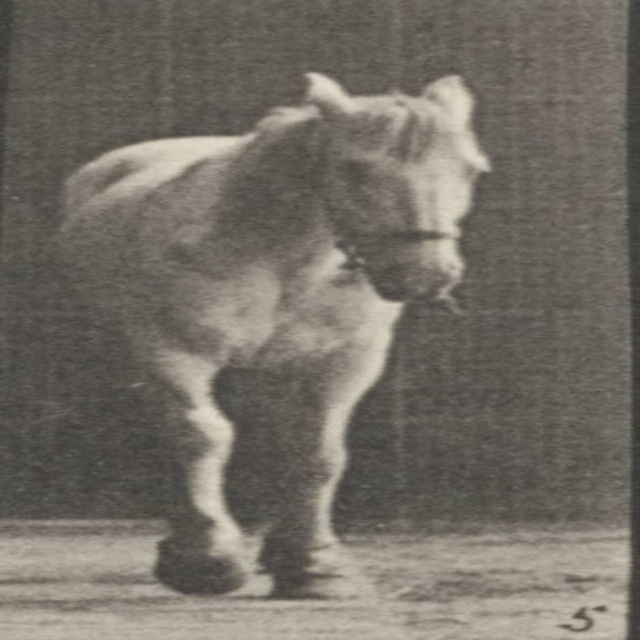Horse: (38, 69, 495, 605)
